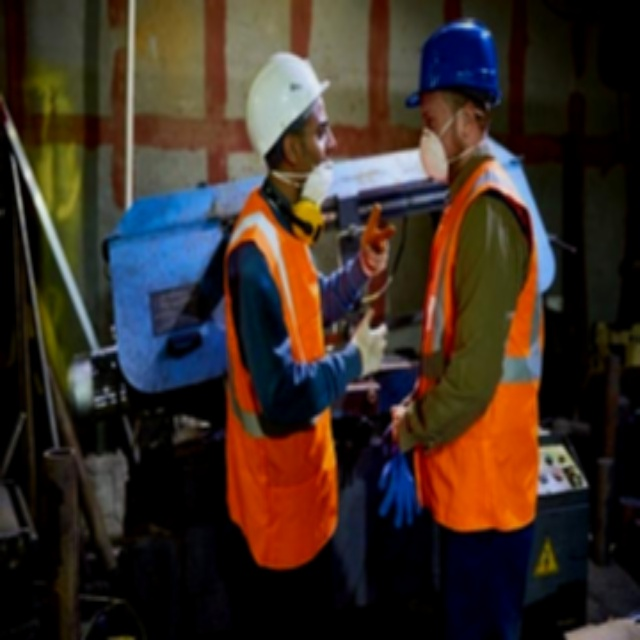Con_Chaleco: (420, 167, 544, 532), (220, 193, 336, 552)
